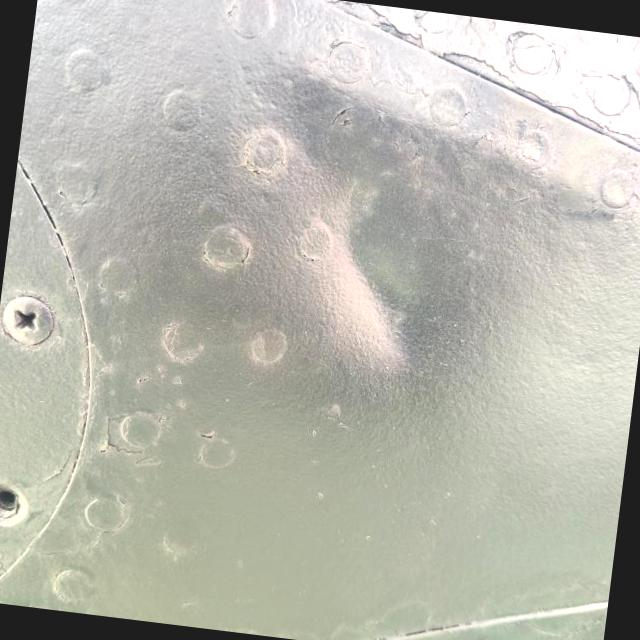Missing Fastener: (0, 481, 29, 529)
dent: (280, 175, 434, 377)
